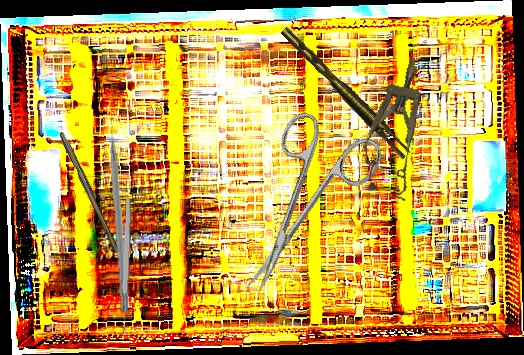Iris Scissors: (206, 98, 389, 315)
Pusher: (106, 107, 132, 314)
Scalpel Handle: (56, 130, 124, 254)
Speculum: (352, 51, 441, 202)
Surgical Spoon: (119, 197, 133, 335)
Tissue Forceps: (280, 20, 412, 164)
